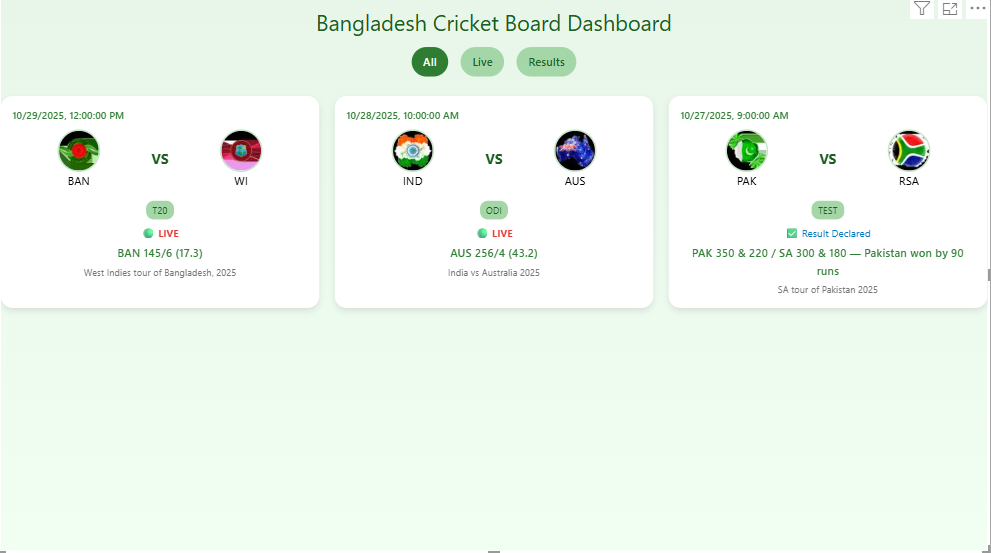

Layout of this report page (visuals, bound fields, positions):
{"tool":"powerbi","page":{"name":"Page 1","canvas":[1280,720],"ordinal":0},"visuals":[{"type":"actionButton","box":[0,0,100,40],"z":1000},{"type":"htmlContent443BE3AD55E043BF878BED274D3A6855","fields":{"content":["all match base api (2).match card"]},"box":[0,0,1280,719.8],"z":1001}]}

Visuals, with their boxes in screenshot pixels (x1, y1, x2, y2), scaled from the page's 1280x720 canvas onto the 991x553 screenshot:
actionButton: left=0, top=0, right=77, bottom=31
htmlContent443BE3AD55E043BF878BED274D3A6855 - all match base api (2).match card: left=0, top=0, right=990, bottom=552
